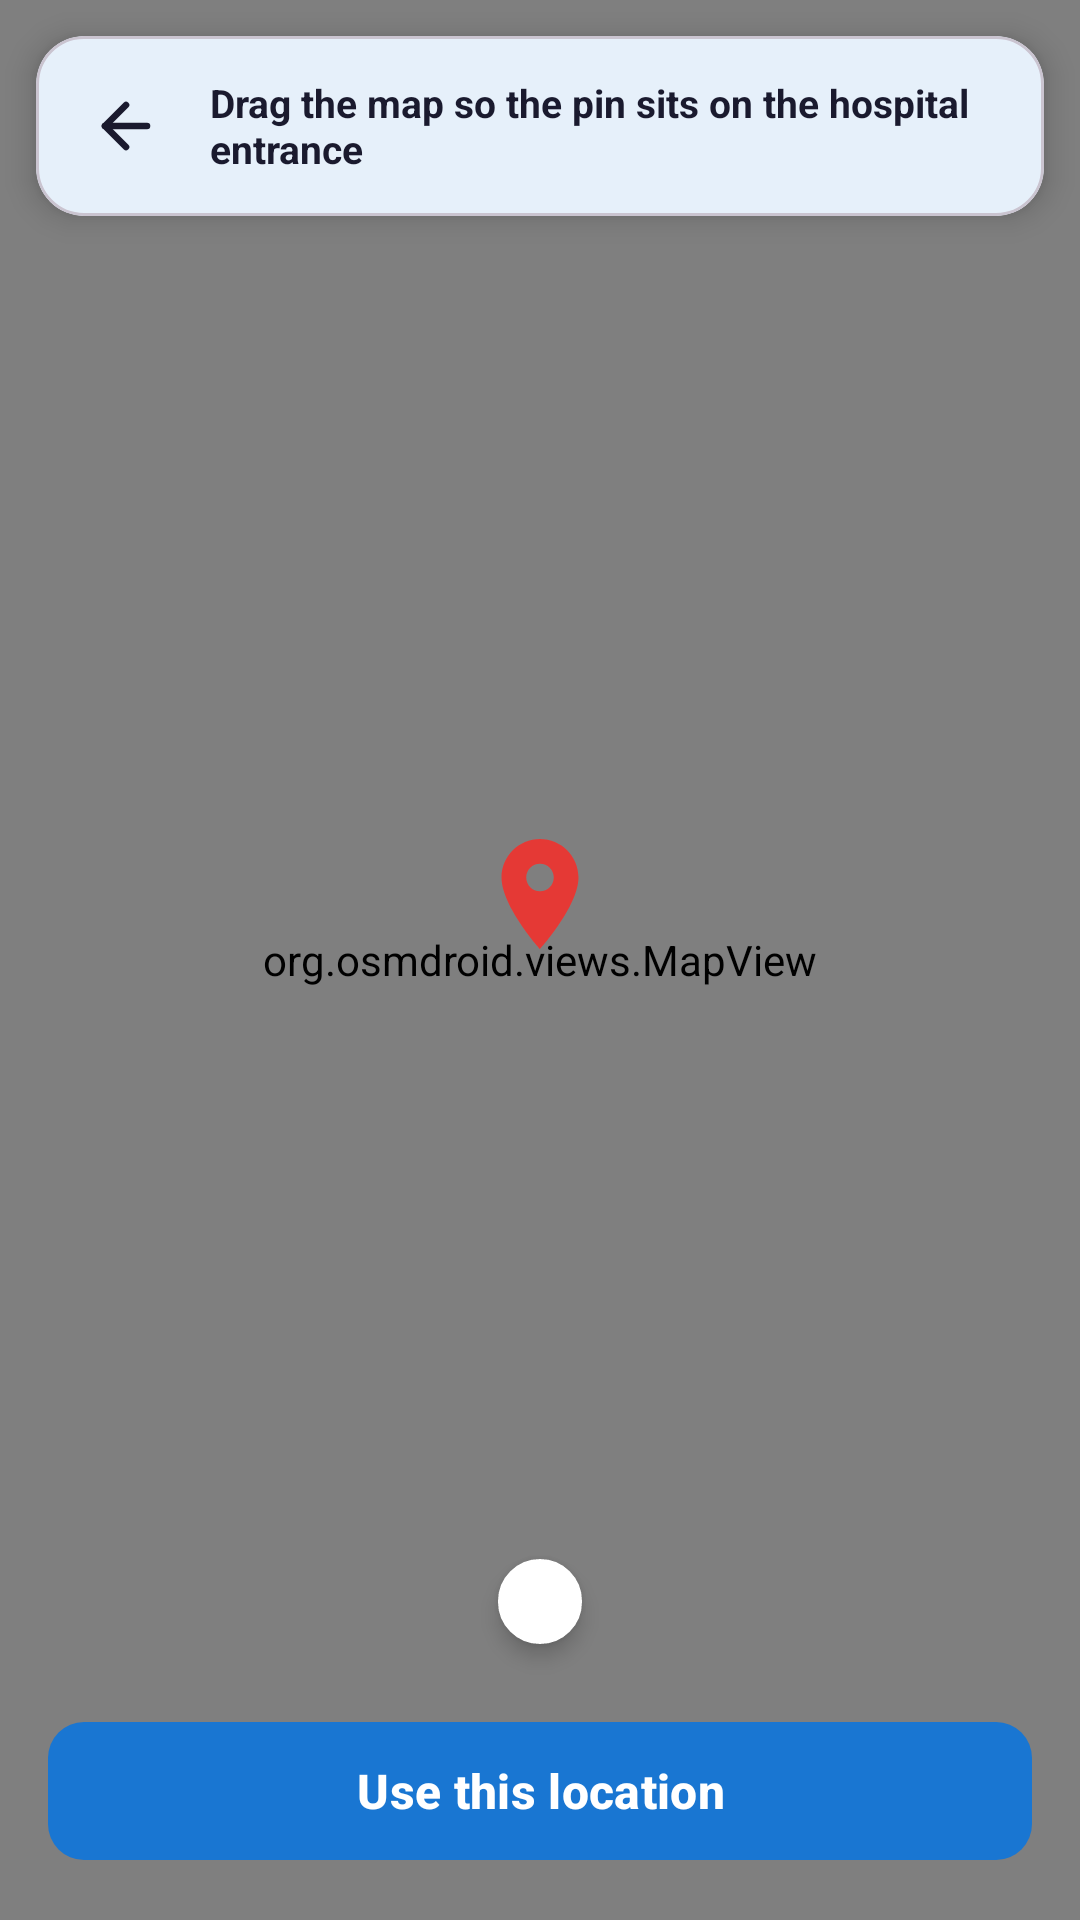

Icon click points for this 1080 × 1920 phone screenshot, format point (x, y):
Back: point (126, 126)
